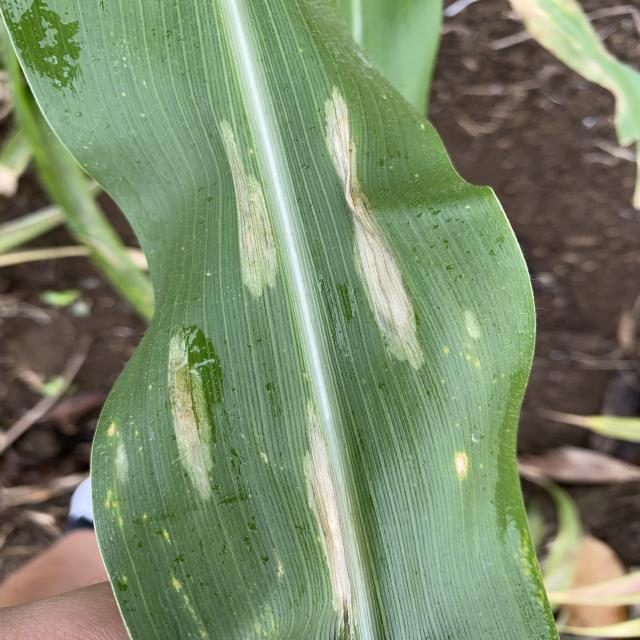Corn_Leaf_Blight: (84, 0, 544, 640)
